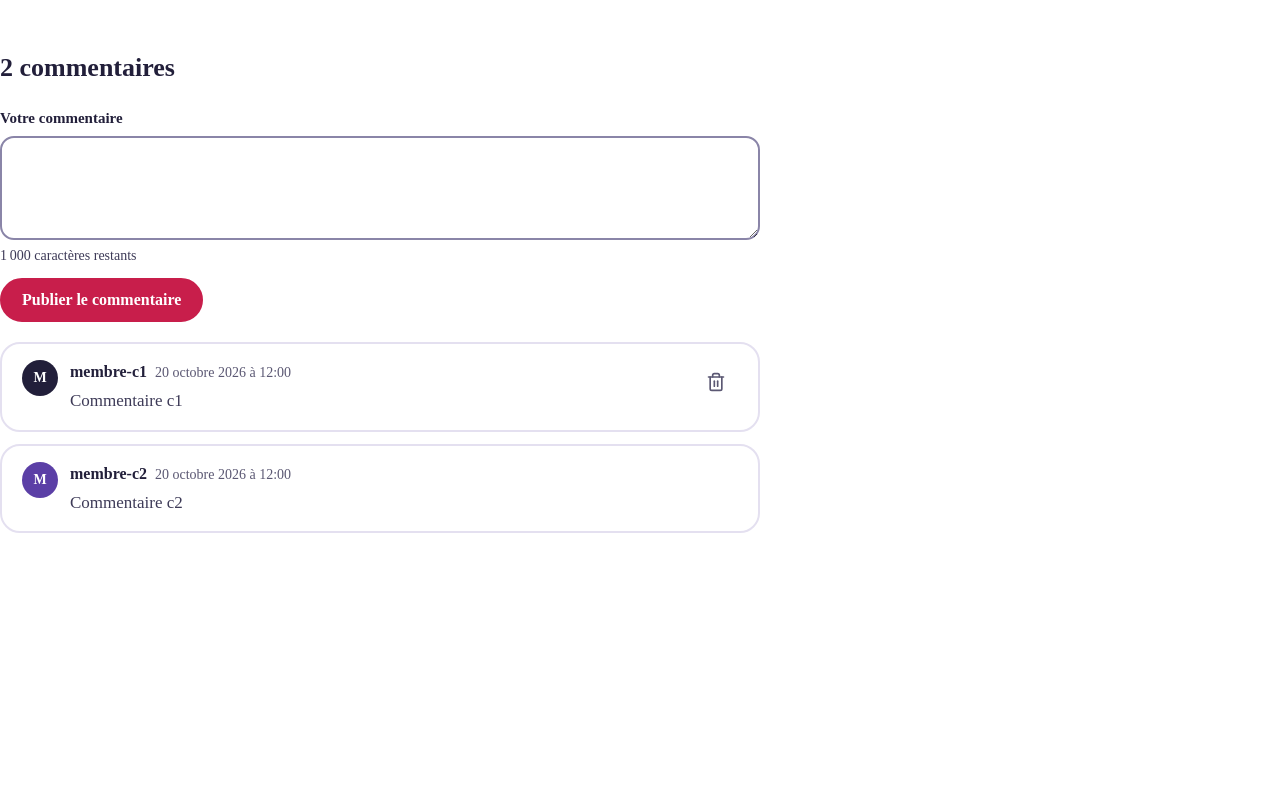
Scenario: CommentsSection › supprimer après confirmation ; échec signalé
Click the button named "Supprimer le commentaire de membre-c1": (716, 382) [694,360,738,404]
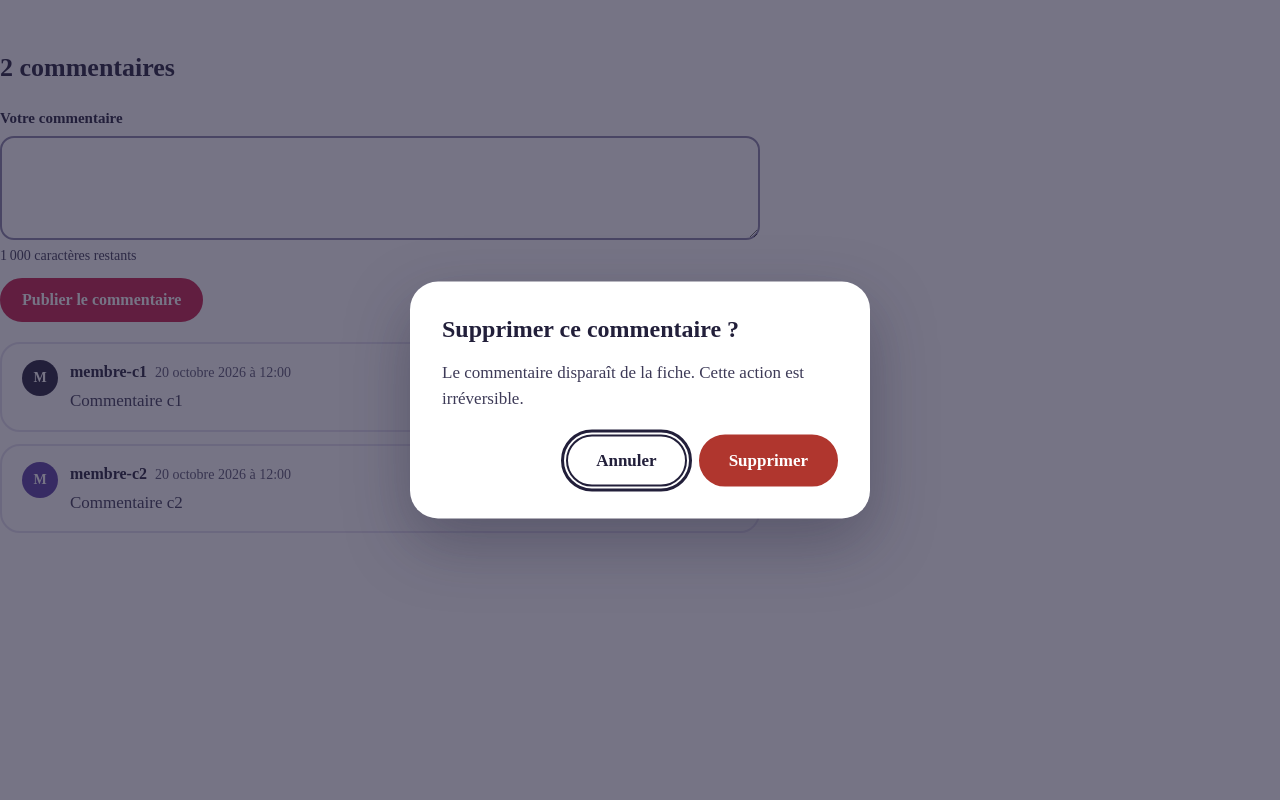
Click the button "Supprimer": (768, 460) [699,434,838,486]
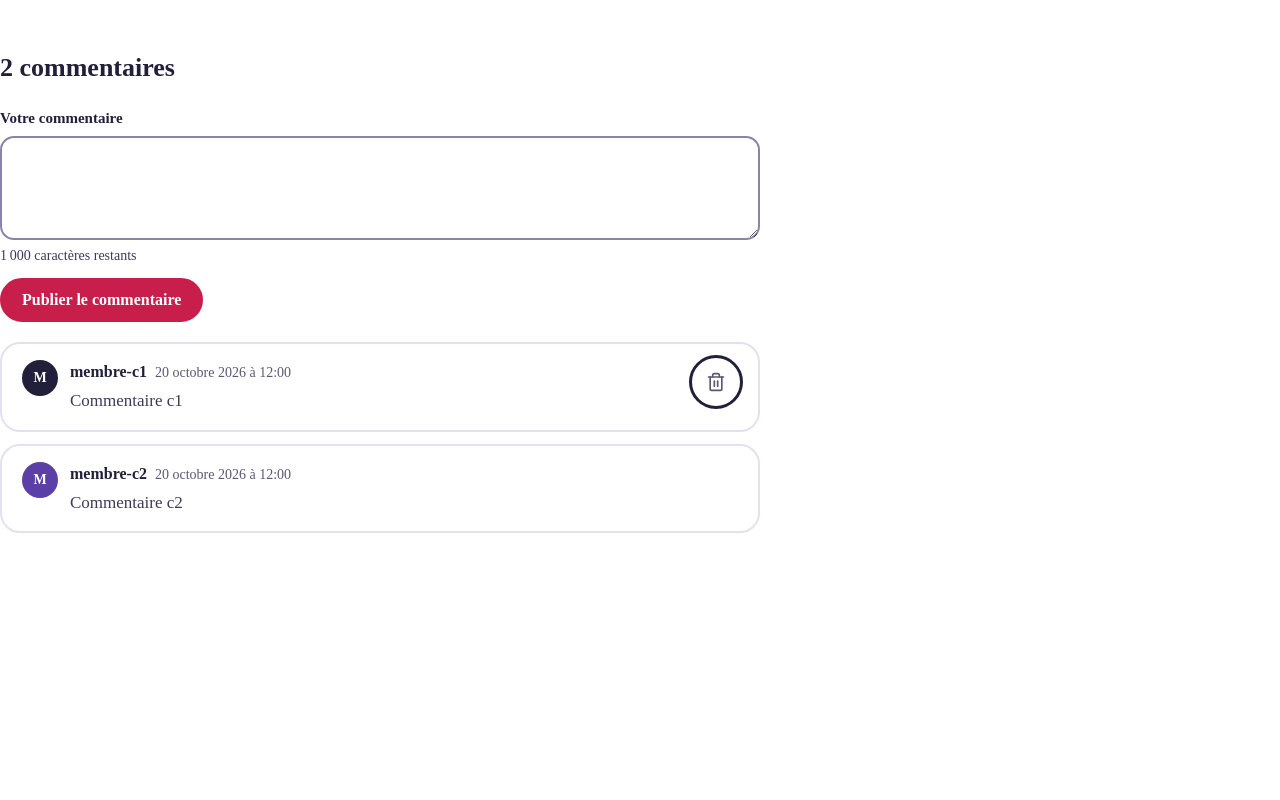
Click the button named "Supprimer le commentaire de membre-c1": (716, 382) [694,360,738,404]
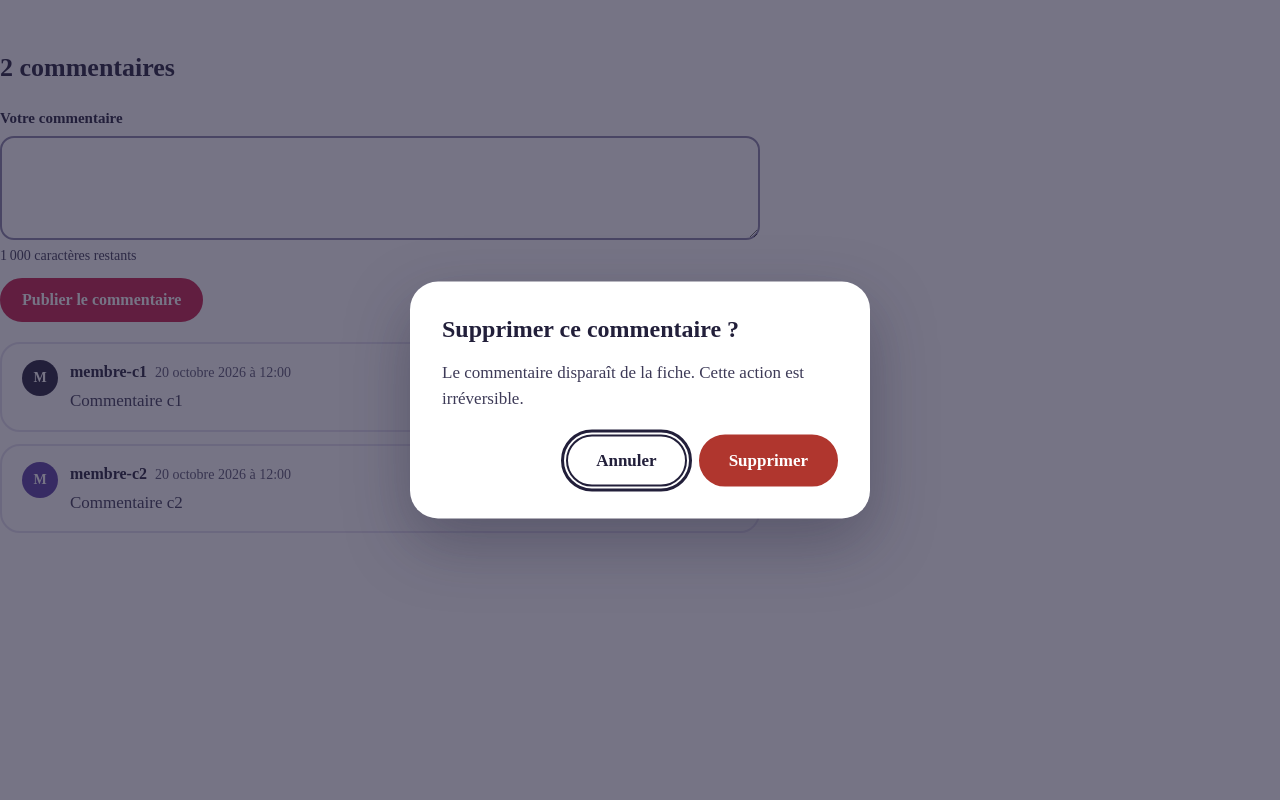
Click the button "Supprimer": (768, 460) [699,434,838,486]
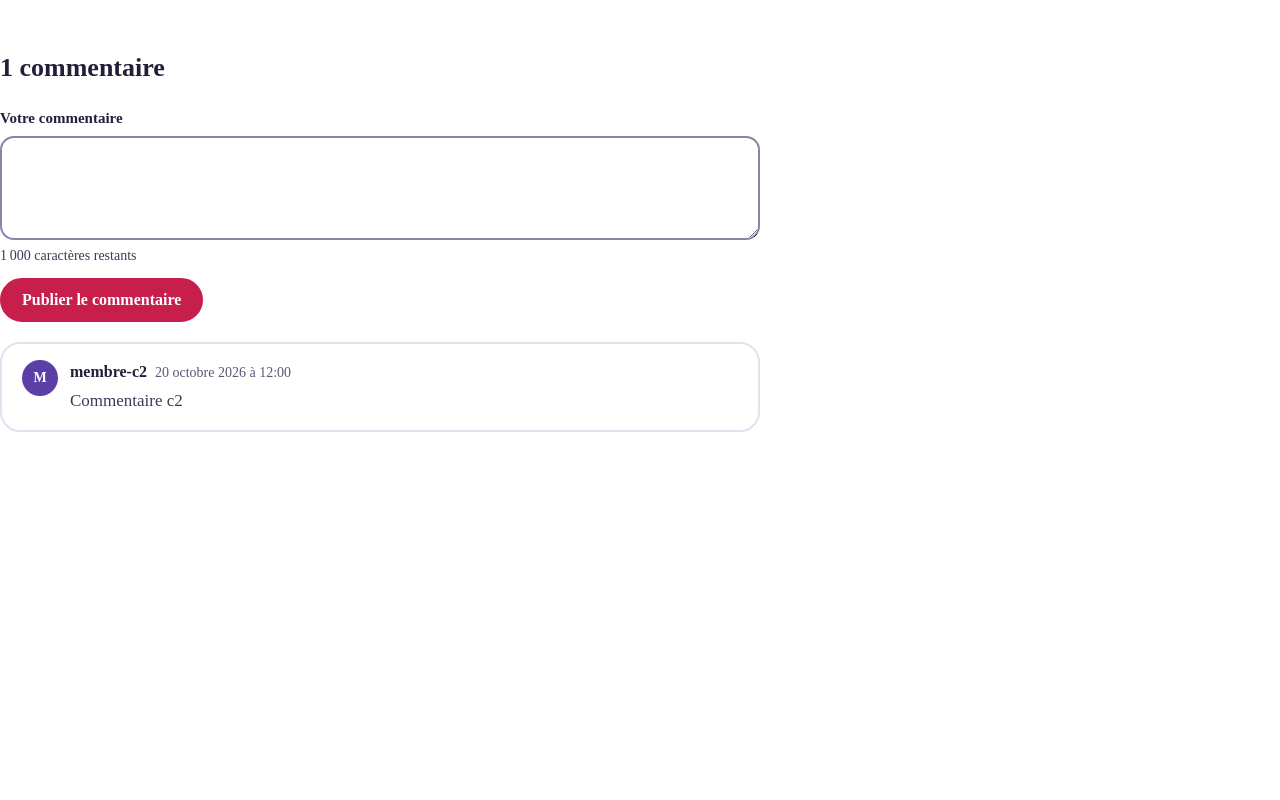
Now the heading "1 commentaire" is shown, box [0,53,165,82]
